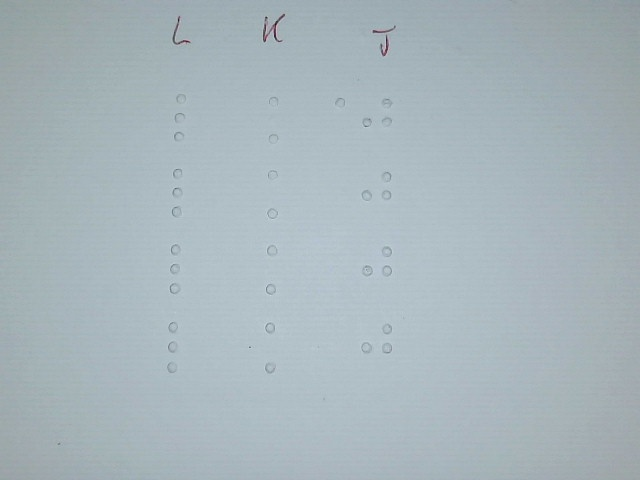J: (358, 87, 395, 143), (359, 162, 396, 218), (359, 237, 396, 293), (358, 314, 395, 370)
K: (260, 92, 297, 148), (260, 167, 297, 223), (259, 242, 296, 298), (258, 320, 295, 376)
L: (167, 90, 204, 146), (164, 165, 201, 221), (162, 240, 199, 296), (160, 318, 197, 374)
